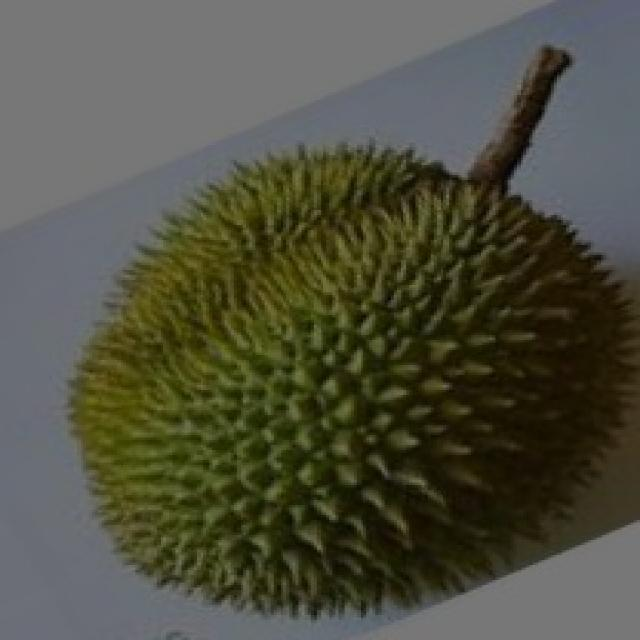fruit: (258, 200, 640, 638), (28, 275, 415, 640)
